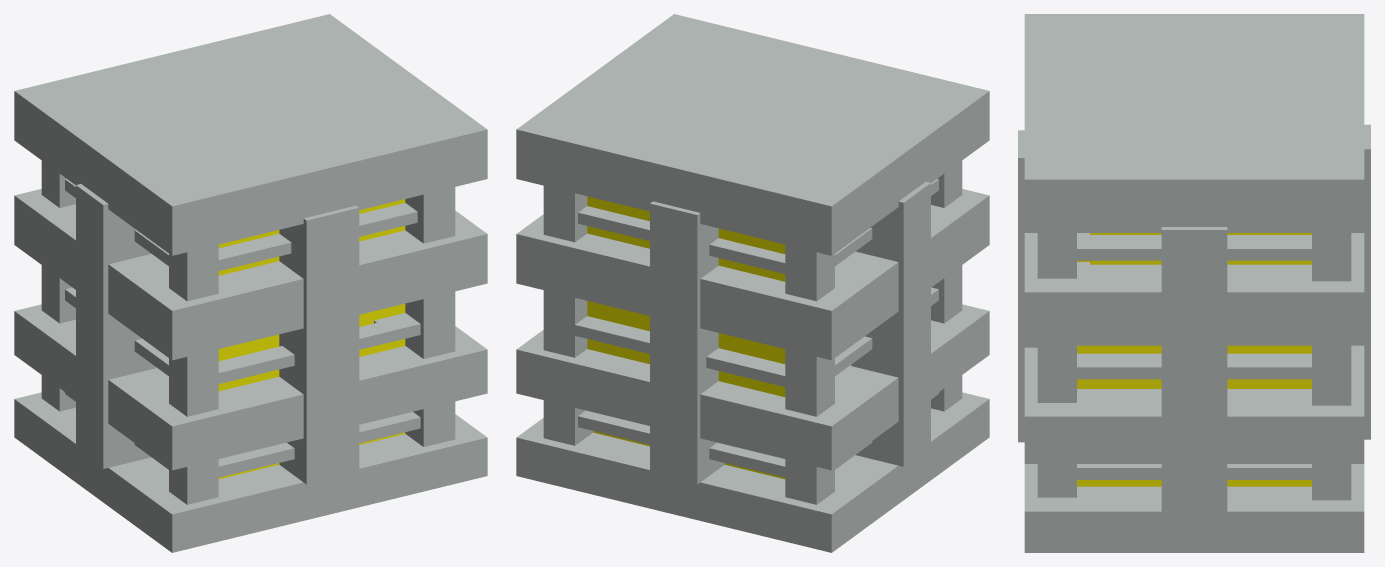
The model's file is Building002(1).obj.
The picture shows the model from 3 angles, left to right: view 1: azimuth 30°, elevation 25°; view 2: azimuth 150°, elevation 25°; view 3: azimuth 270°, elevation 25°; orthographic projection. The views are drawn at different scales.
Size of the model in its own units: 6.2 by 6.3 by 5.4.
1 material, 1 textured.
